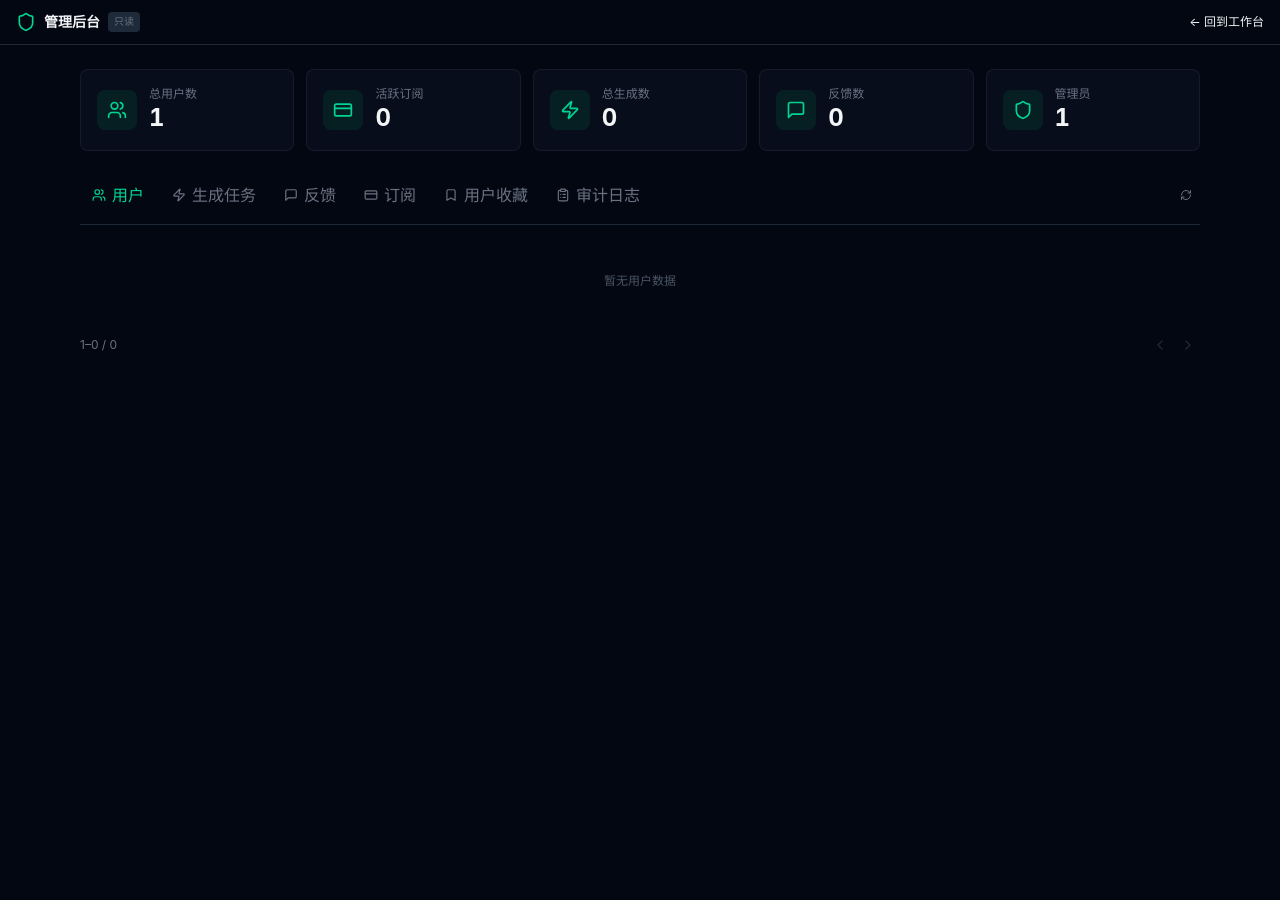
Test case: R1 AdminPage review editor › keeps controls reachable while the favorite body is vertically resizable
Click the button "用户收藏" at (486, 195), box [432,175,540,216]
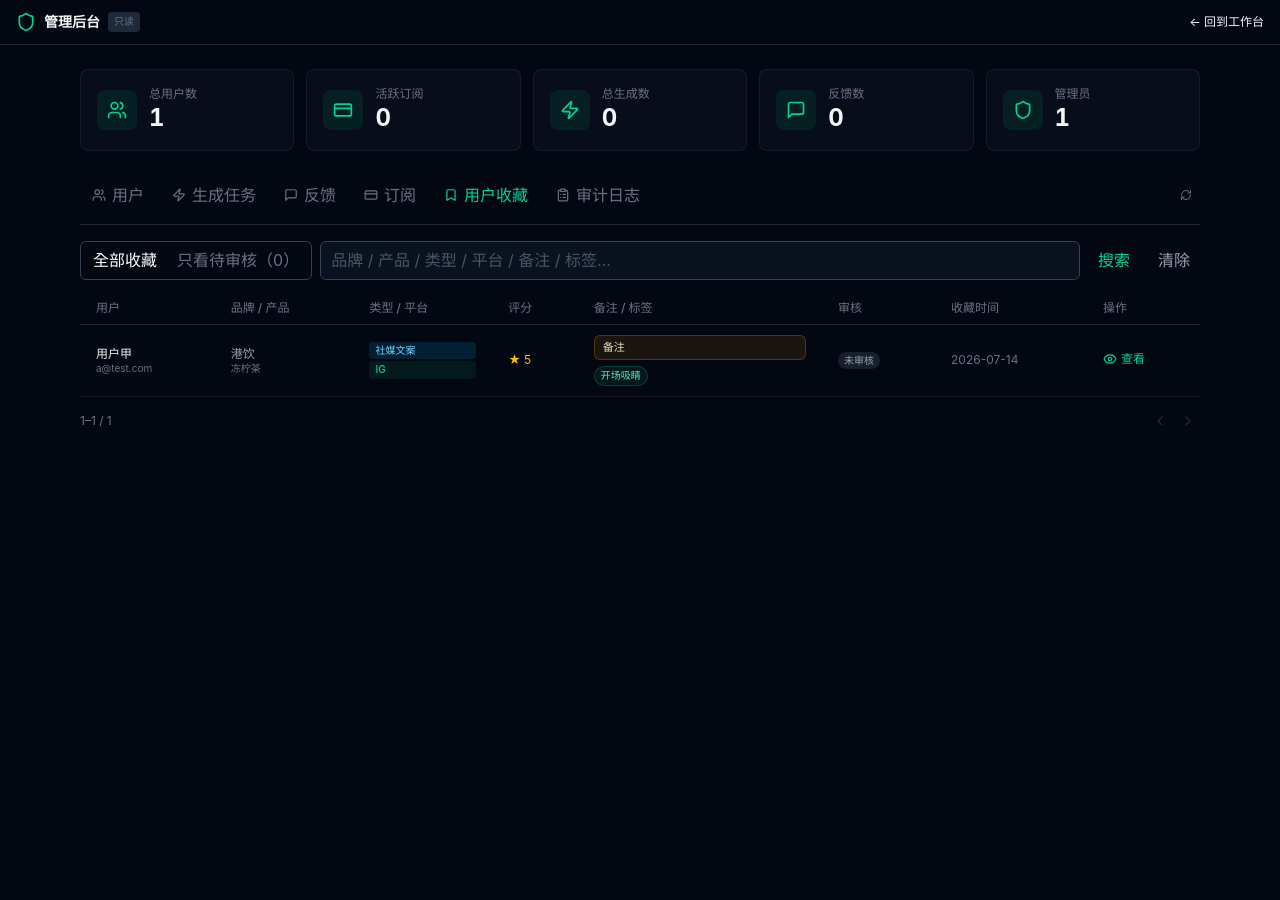
Click the button with aria-label "查看收藏详情" at (1124, 359), box [1103,351,1145,367]
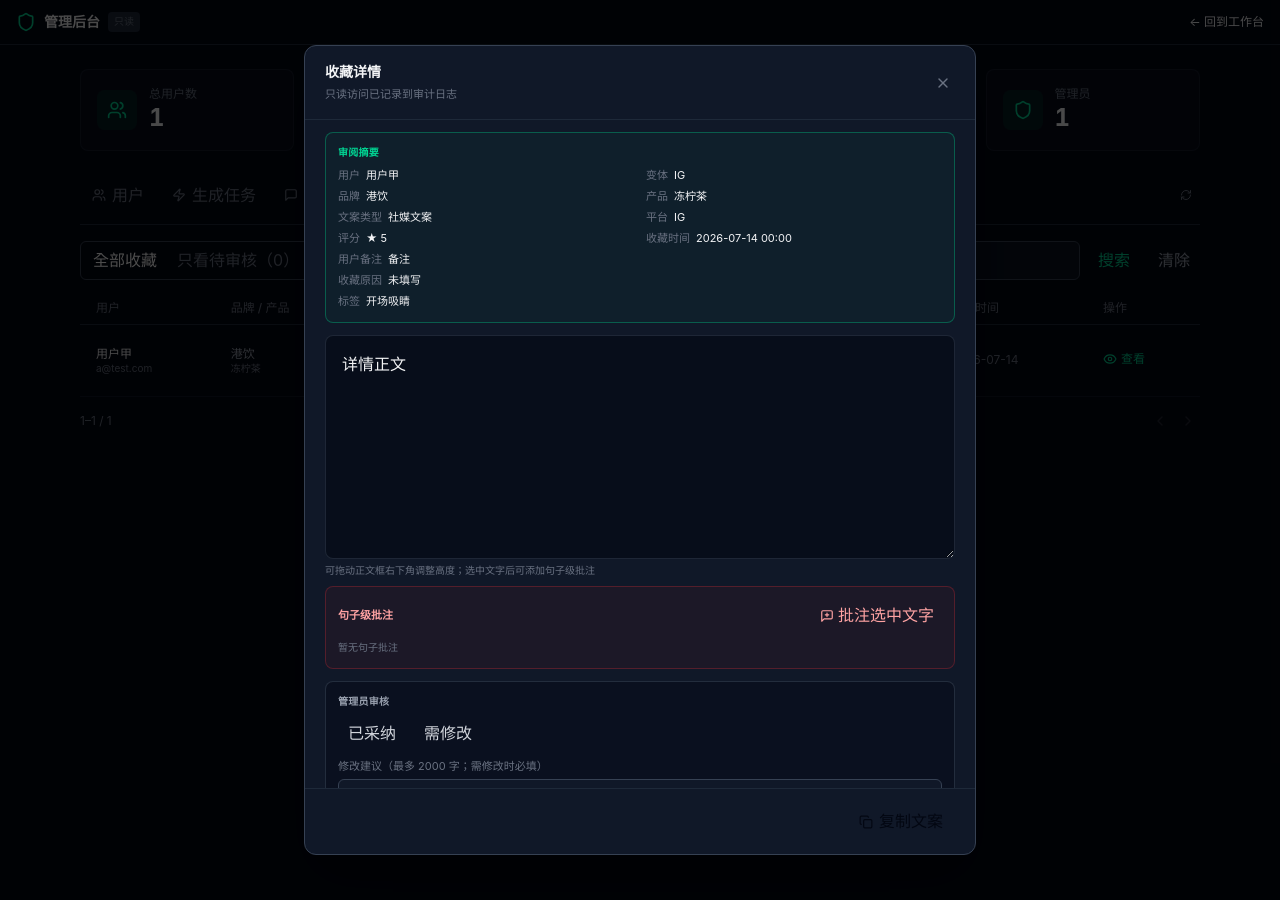
Expected: the text "可拖动正文框右下角调整高度；选中文字后可添加句子级批注" is shown, [325,564,595,576]
Expected: the button named "关闭收藏详情" is shown, [931,70,955,94]
